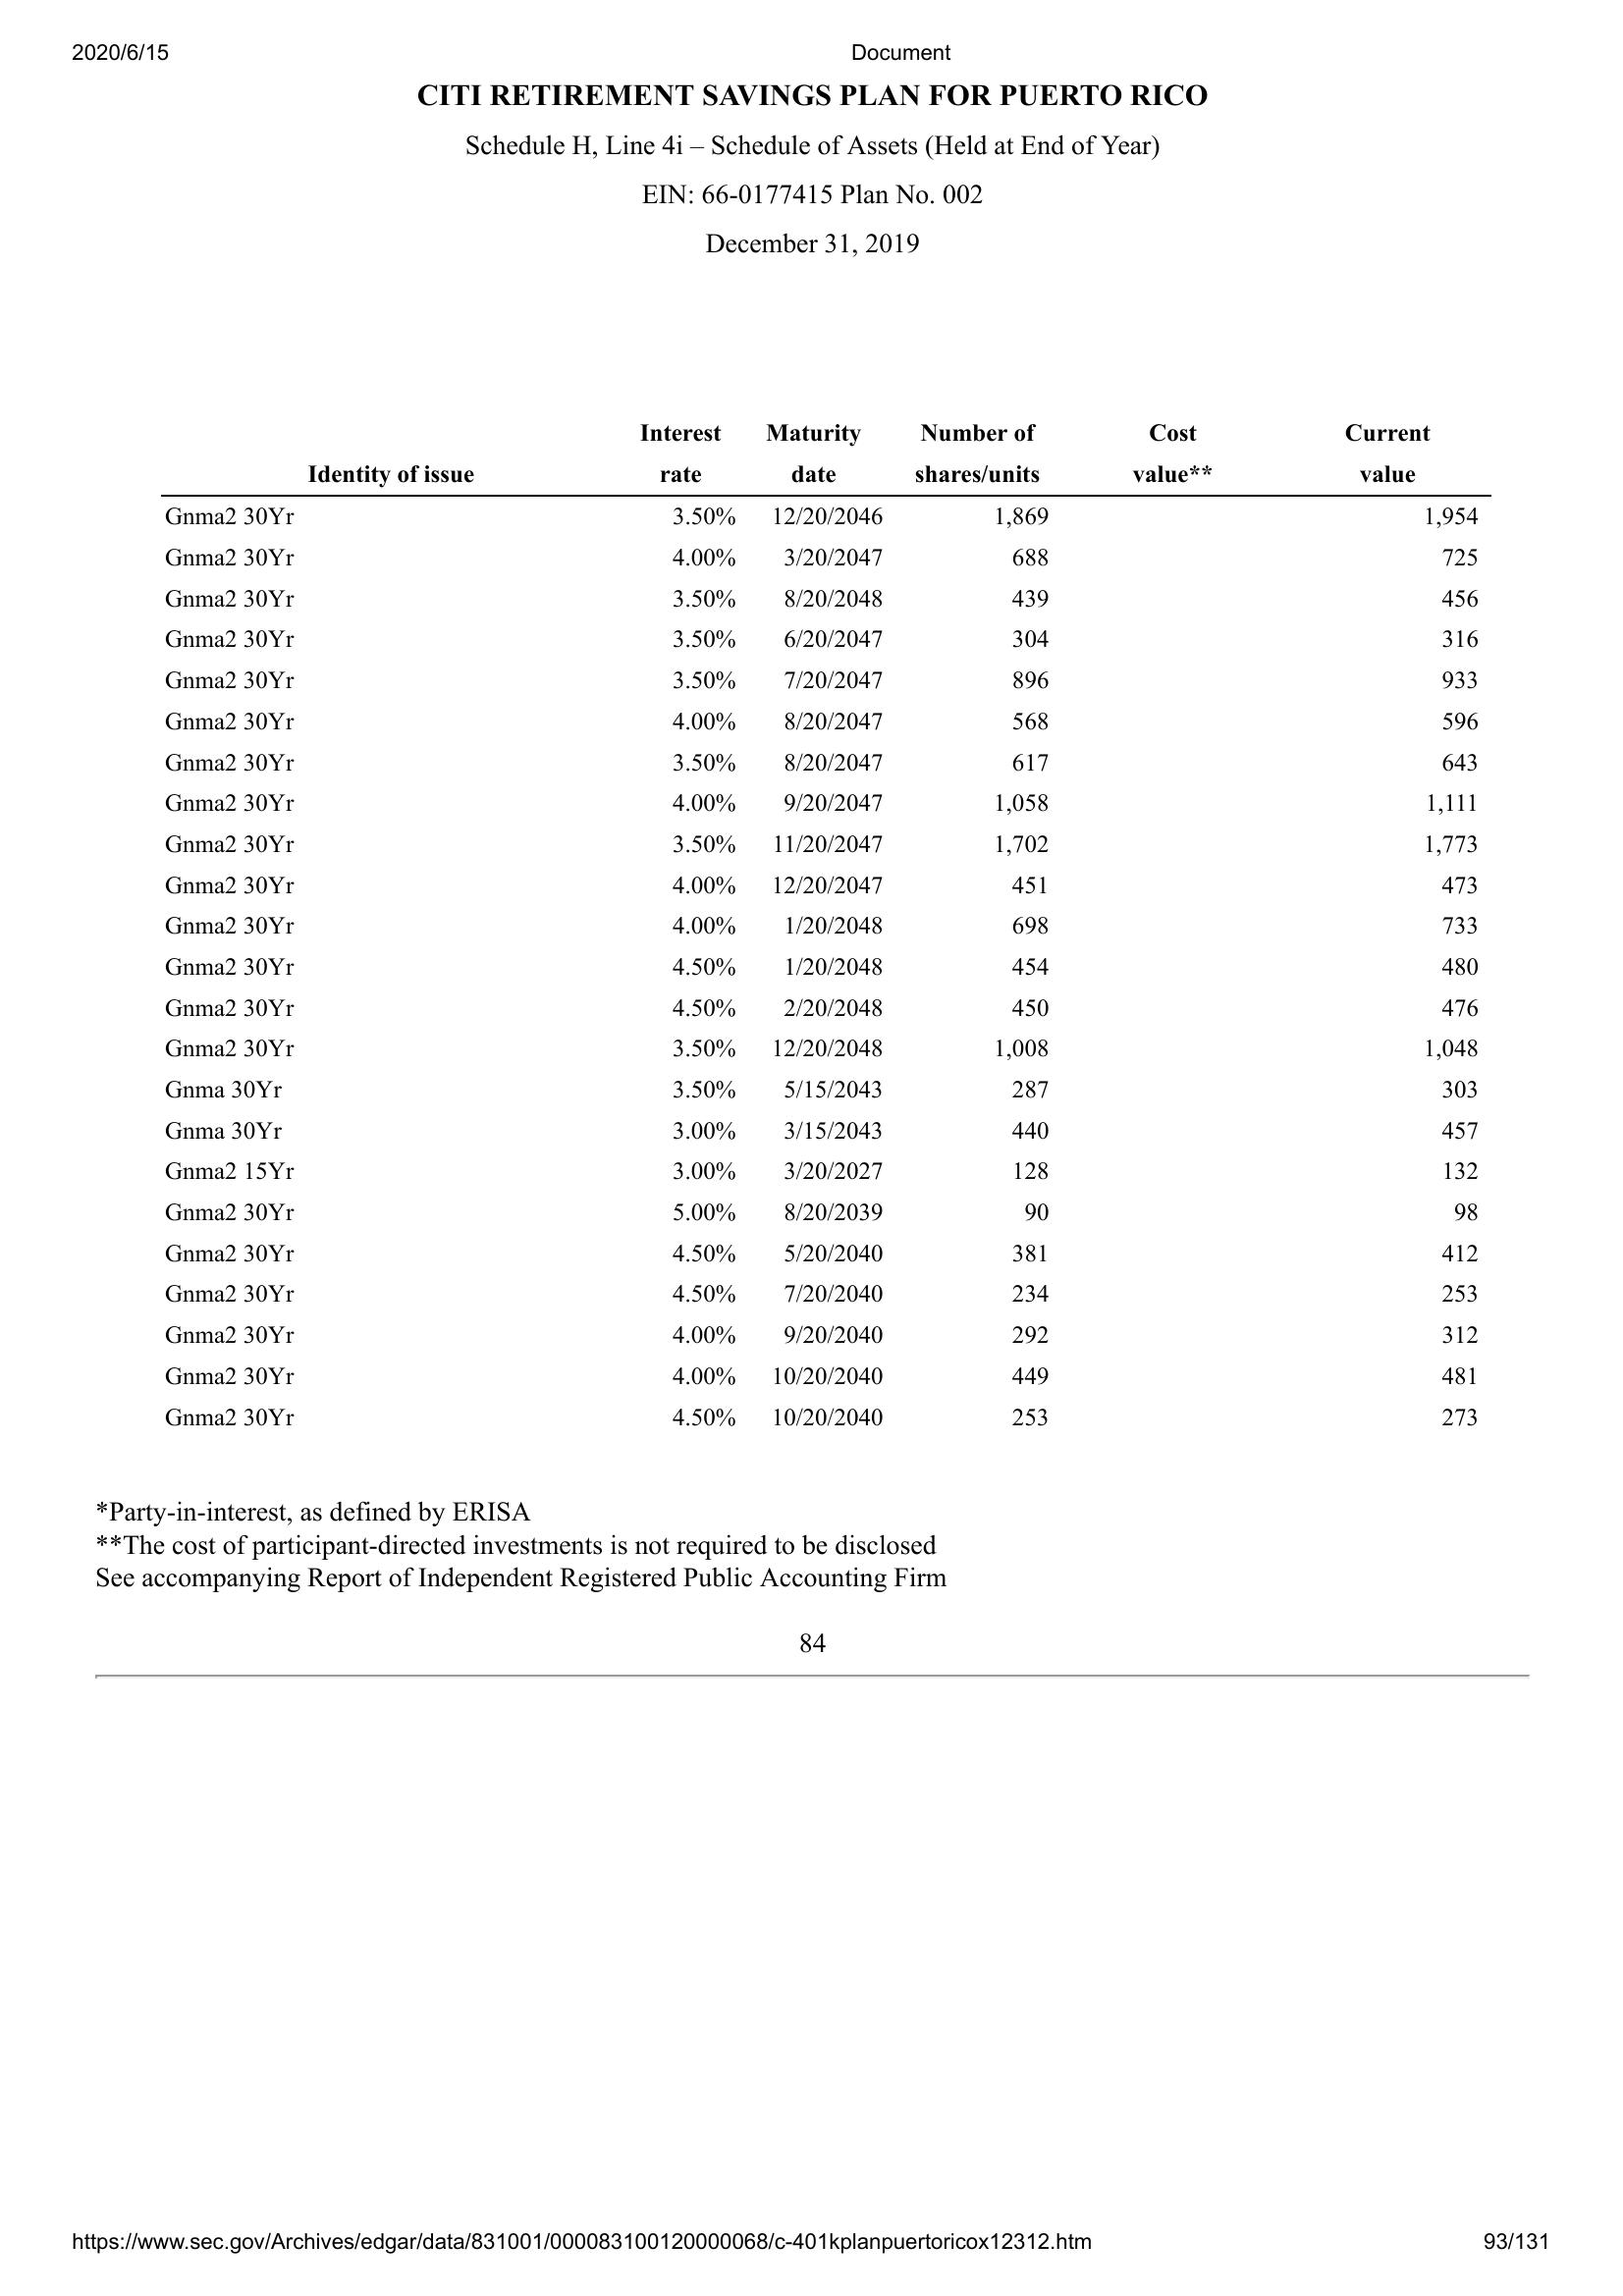table: (135, 423, 1502, 1439)
